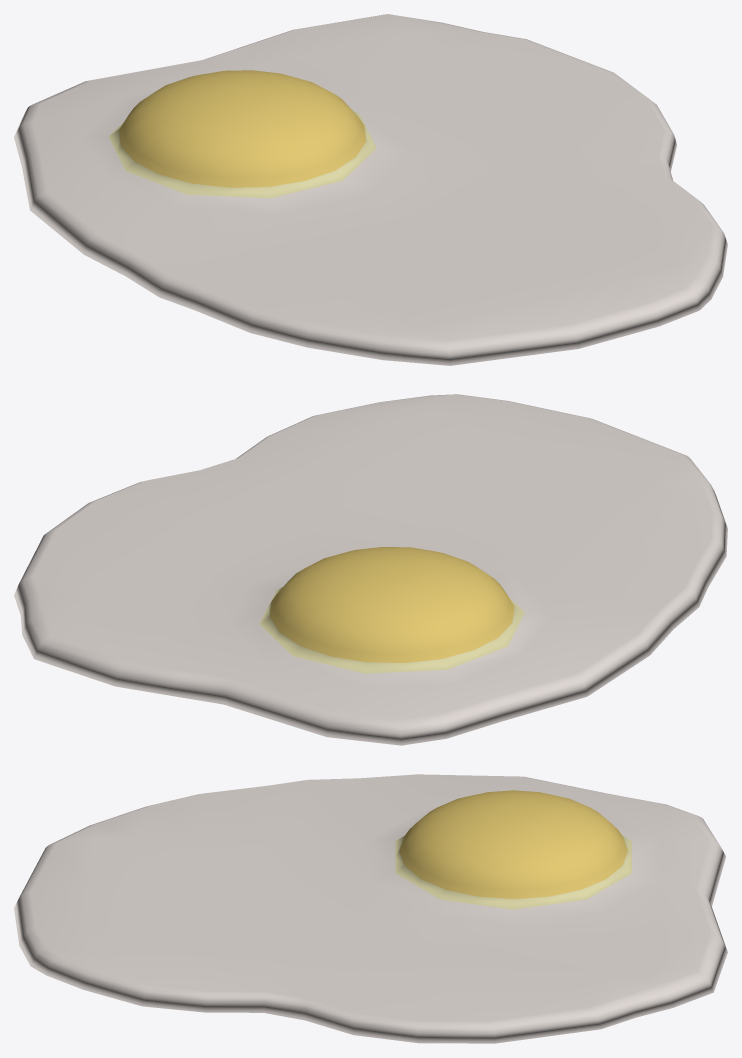
File: atoll_sm_sunnySideEgg.fbx
3 renders of one model, top to bottom at view 1: azimuth 30°, elevation 25°; view 2: azimuth 150°, elevation 25°; view 3: azimuth 270°, elevation 25°, orthographic. The views are drawn at different scales.
Parts seen in each view (by area): view 1: Egg_Up; view 2: Egg_Up; view 3: Egg_Up.
Boxes of the visible parts, left/top/right/bottom form: Egg_Up: left=14, top=14, right=727, bottom=365; Egg_Up: left=14, top=394, right=727, bottom=745; Egg_Up: left=14, top=774, right=727, bottom=1043.
Bounding box in the file's own units: 26.89 × 3.23 × 31.34.
